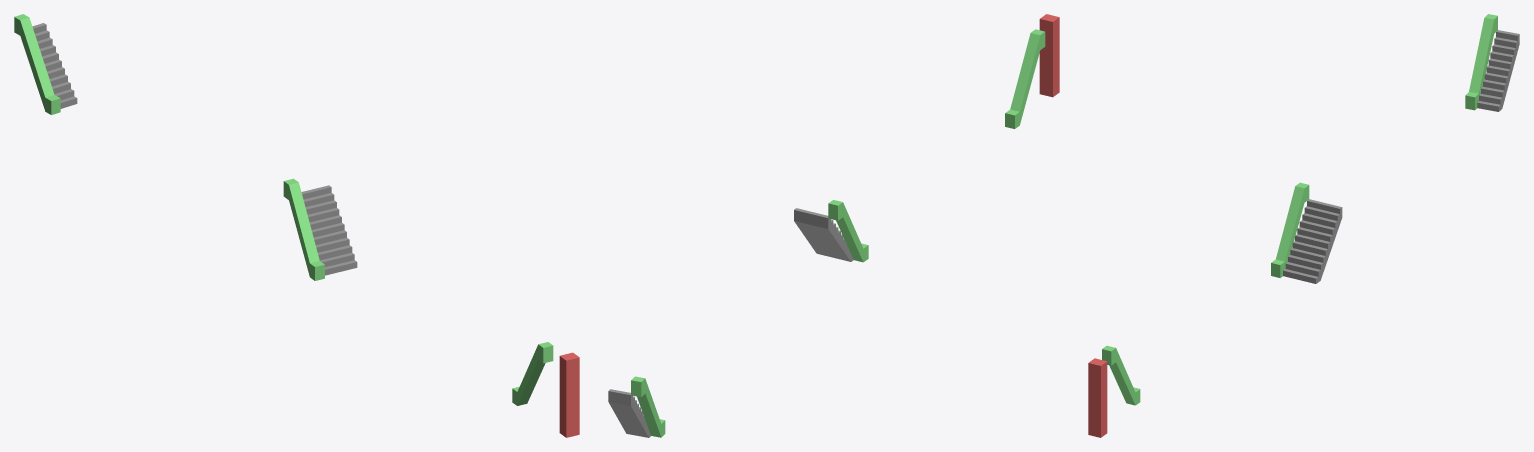
The picture shows the model from 3 angles, left to right: view 1: azimuth 30°, elevation 25°; view 2: azimuth 150°, elevation 25°; view 3: azimuth 330°, elevation 25°; orthographic projection. The views are drawn at different scales.
Visible parts, largest first — view 1: 階段.032, エレベーター.010, エスカレーター.036, エスカレーター.035, 階段.033, エスカレーター.034; view 2: 階段.032, エレベーター.010, エスカレーター.034, 階段.033, エスカレーター.035, エスカレーター.036; view 3: 階段.032, 階段.033, エレベーター.010, エスカレーター.035, エスカレーター.036, エスカレーター.034.
Part boxes in pixels (x1,y1,x2,y2): 階段.032: (301, 185, 357, 275); エレベーター.010: (559, 352, 579, 437); エスカレーター.036: (14, 14, 60, 114); エスカレーター.035: (283, 178, 324, 280); 階段.033: (32, 23, 77, 108); エスカレーター.034: (512, 342, 553, 405); 階段.032: (794, 208, 853, 261); エレベーター.010: (1039, 14, 1059, 97); エスカレーター.034: (1005, 29, 1045, 128); 階段.033: (608, 389, 650, 437); エスカレーター.035: (828, 200, 868, 262); エスカレーター.036: (631, 376, 665, 437); 階段.032: (1283, 199, 1342, 283); 階段.033: (1477, 30, 1519, 111); エレベーター.010: (1088, 358, 1107, 437); エスカレーター.035: (1271, 182, 1309, 277); エスカレーター.036: (1465, 14, 1497, 110); エスカレーター.034: (1102, 345, 1140, 405).
Bounding box in the file's own units: 1345 × 1250 × 14456.
